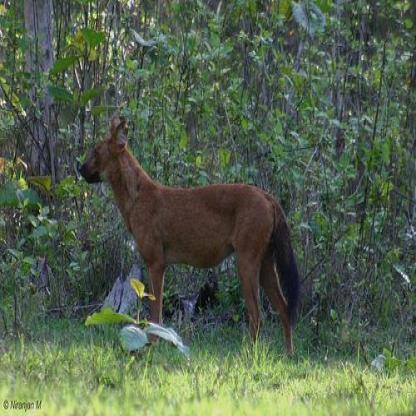dhole: (76, 112, 303, 364)
